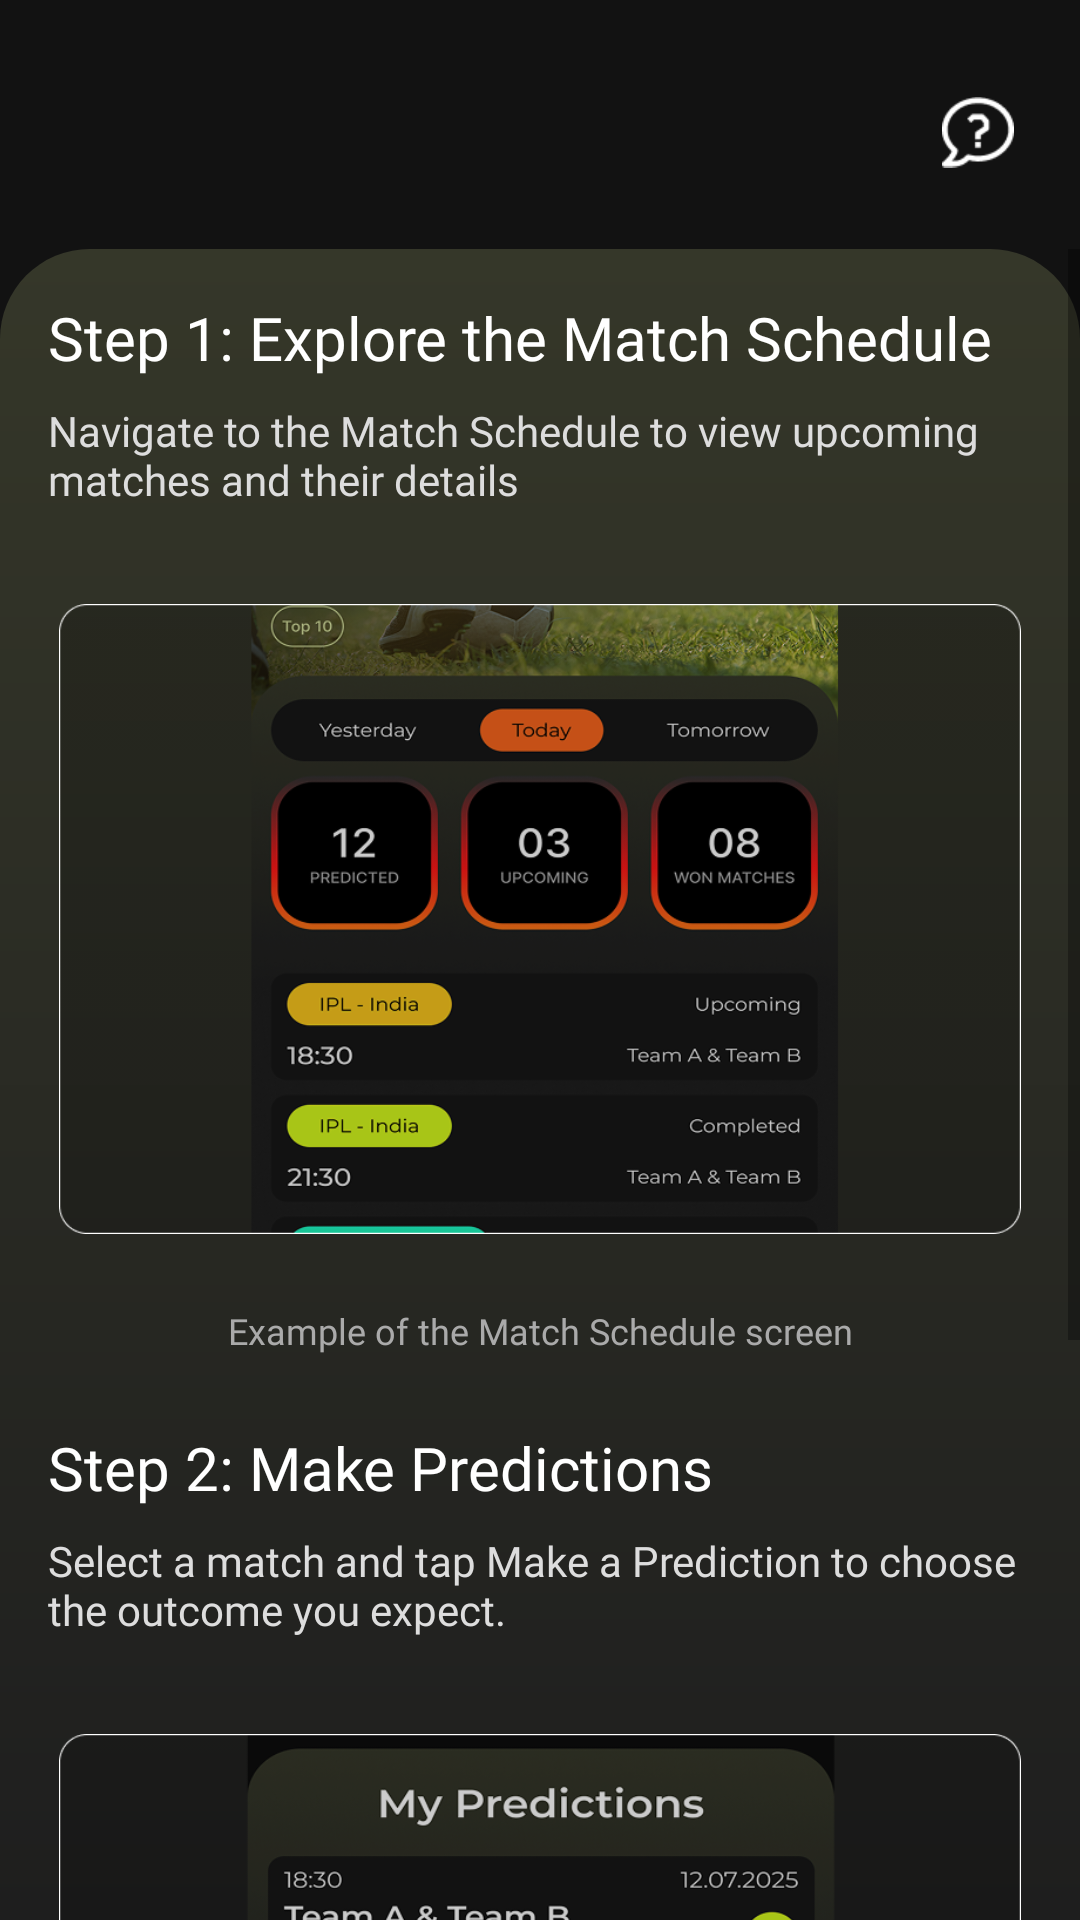

Icons on this 1080 × 1920 Android screen, each with the point to tap as [x,y]:
tutorial: [978,132]
